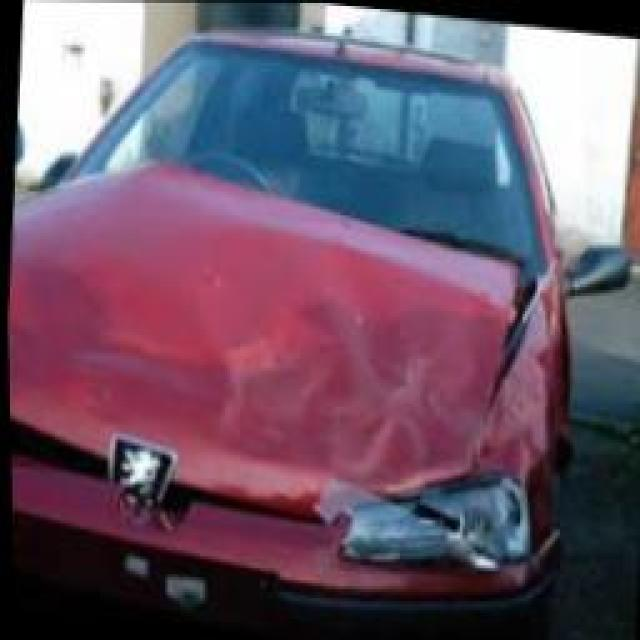Bonnet: (6, 156, 541, 516)
Light: (340, 480, 523, 570)
